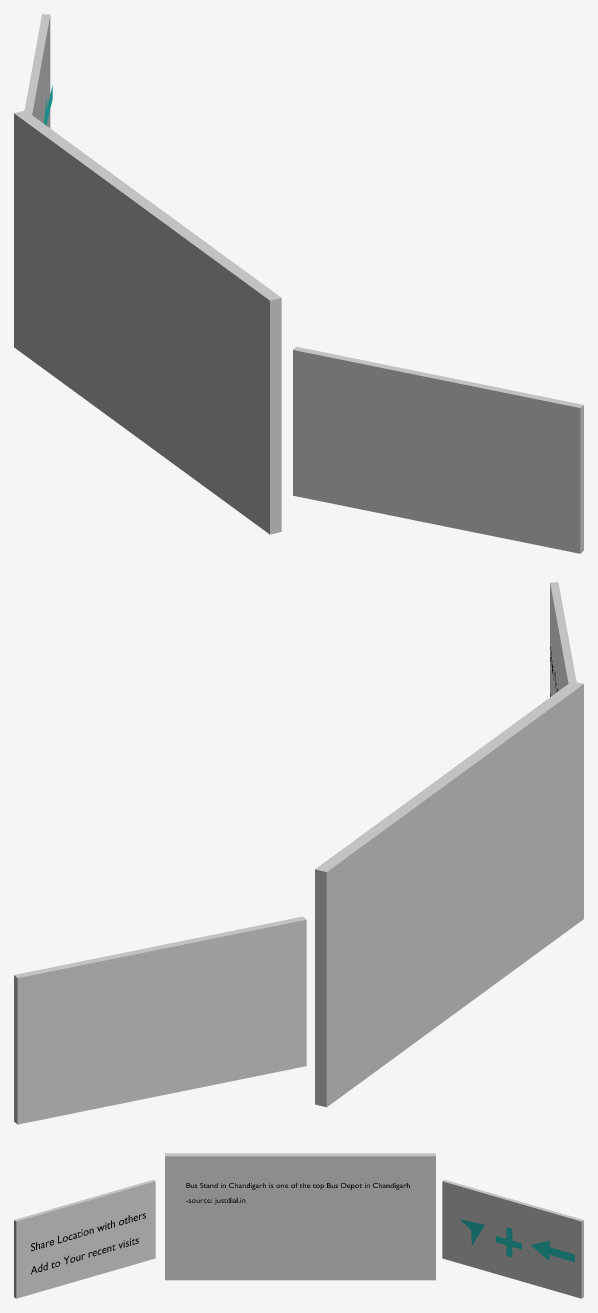
File: busstand.fbx
3 views of the same model, one above another, from view 1: azimuth 30°, elevation 25°; view 2: azimuth 150°, elevation 25°; view 3: azimuth 270°, elevation 25° (orthographic). The views are drawn at different scales.
Visible parts, largest first — view 1: Cube.002; view 2: Cube.002; view 3: Cube.002, Text.001, Text, Plane.002, Plane.001, Plane.
Boxes of the visible parts, bbox=[...] form: Cube.002: bbox=[14, 14, 583, 553]; Cube.002: bbox=[14, 582, 583, 1124]; Cube.002: bbox=[14, 1153, 583, 1298]; Text.001: bbox=[31, 1213, 145, 1274]; Text: bbox=[186, 1183, 409, 1204]; Plane.002: bbox=[531, 1240, 574, 1262]; Plane.001: bbox=[496, 1227, 521, 1257]; Plane: bbox=[460, 1219, 484, 1245].
Size of the model in its own units: 110 by 141 by 588.
